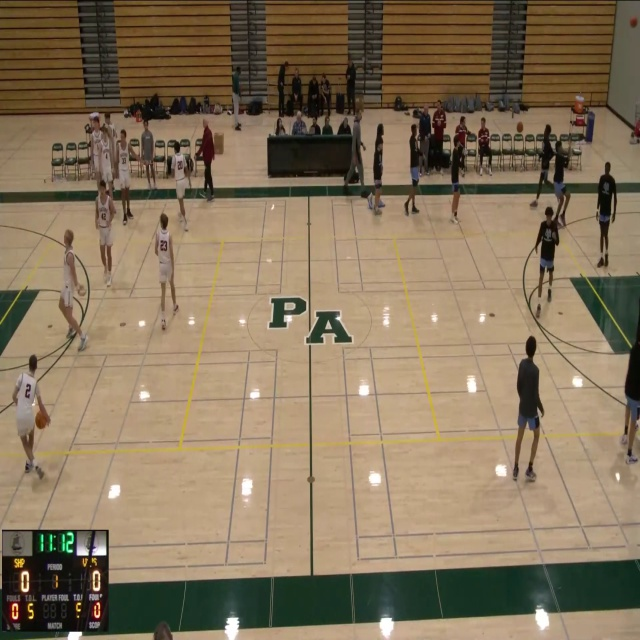Basketball: (35, 411, 48, 429), (629, 17, 637, 27), (517, 122, 523, 132)
